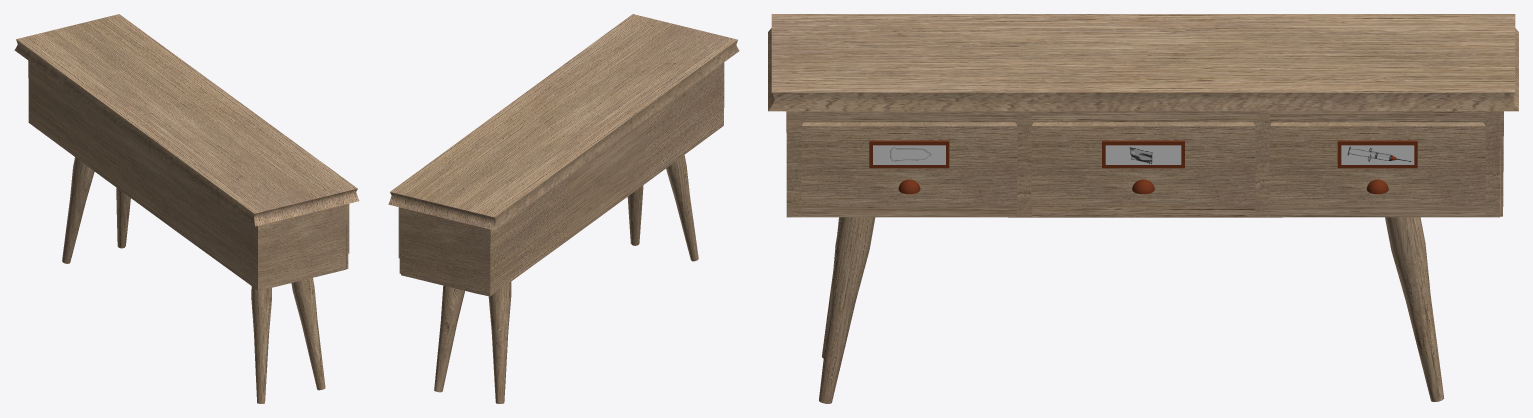
Rendered from Apoth_Table.FBX.
The picture shows the model from 3 angles, left to right: view 1: azimuth 30°, elevation 25°; view 2: azimuth 150°, elevation 25°; view 3: azimuth 270°, elevation 25°; orthographic projection. The views are drawn at different scales.
Parts seen in each view (by area): view 1: Tabletop, Table_Body, Leg002, Leg001, Leg003, Leg004; view 2: Tabletop, Table_Body, Leg003, Leg004, Leg001, Leg002; view 3: Tabletop, Box002, Drawer_Middle, Drawer_Left, Drawer_Right, Leg004, Leg002, Plane001, Plane003, Plane002, Box001, Box004 (+2 smaller).
Boxes of the visible parts, left/top/right/bottom form: Tabletop: left=14, top=14, right=359, bottom=226; Table_Body: left=28, top=60, right=346, bottom=290; Leg002: left=291, top=278, right=325, bottom=390; Leg001: left=251, top=286, right=271, bottom=403; Leg003: left=62, top=157, right=94, bottom=263; Leg004: left=116, top=187, right=130, bottom=248; Tabletop: left=388, top=14, right=739, bottom=230; Table_Body: left=400, top=62, right=724, bottom=296; Leg003: left=488, top=282, right=511, bottom=403; Leg004: left=434, top=285, right=464, bottom=392; Leg001: left=666, top=155, right=698, bottom=261; Leg002: left=627, top=185, right=643, bottom=245; Tabletop: left=768, top=14, right=1518, bottom=111; Box002: left=786, top=111, right=1500, bottom=217; Drawer_Middle: left=1031, top=122, right=1255, bottom=205; Drawer_Left: left=801, top=122, right=1017, bottom=205; Drawer_Right: left=1269, top=122, right=1485, bottom=205; Leg004: left=1385, top=217, right=1444, bottom=401; Leg002: left=819, top=217, right=875, bottom=403; Plane001: left=1105, top=145, right=1181, bottom=164; Plane003: left=1341, top=145, right=1414, bottom=164; Plane002: left=873, top=145, right=945, bottom=164; Box001: left=1102, top=140, right=1184, bottom=168; Box004: left=1337, top=140, right=1417, bottom=168.
Size of the model in its own units: 0.2729 by 0.4835 by 1.01.
5 materials, 4 textured.
